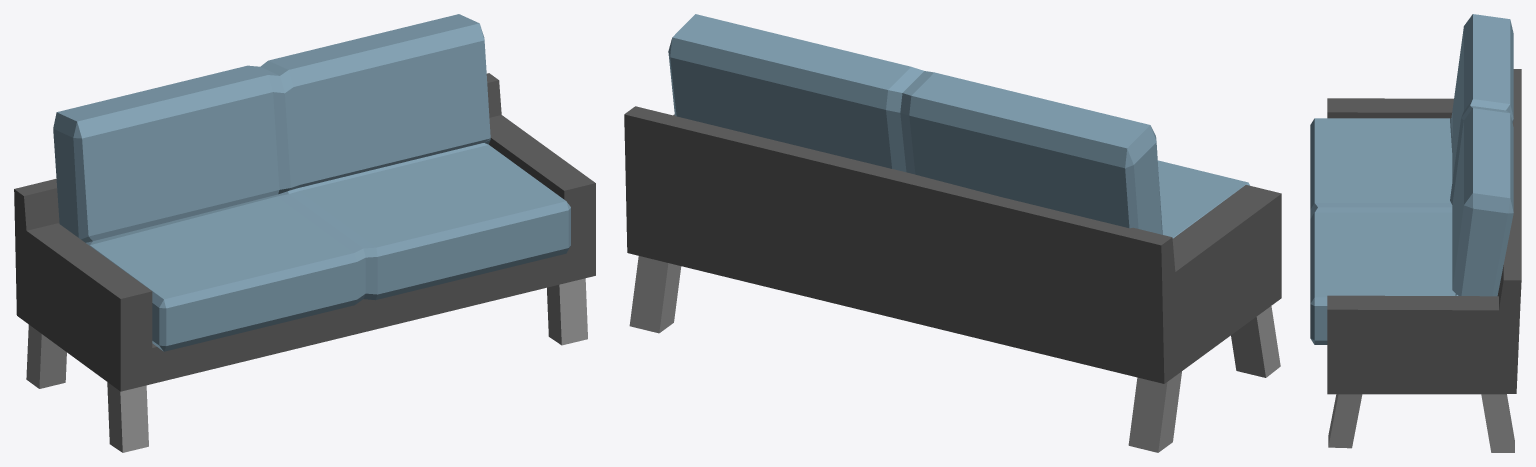
File: Sofa_2.fbx
The picture shows the model from 3 angles, left to right: view 1: azimuth 30°, elevation 25°; view 2: azimuth 150°, elevation 25°; view 3: azimuth 270°, elevation 25°; orthographic projection. The views are drawn at different scales.
Parts seen in each view (by area): view 1: Sofa_2; view 2: Sofa_2; view 3: Sofa_2.
Boxes of the visible parts, x1,y1,x2,y2 form: Sofa_2: [14, 14, 595, 452]; Sofa_2: [624, 14, 1281, 452]; Sofa_2: [1310, 14, 1521, 452].
Size of the model in its own units: 288 by 121 by 155.
